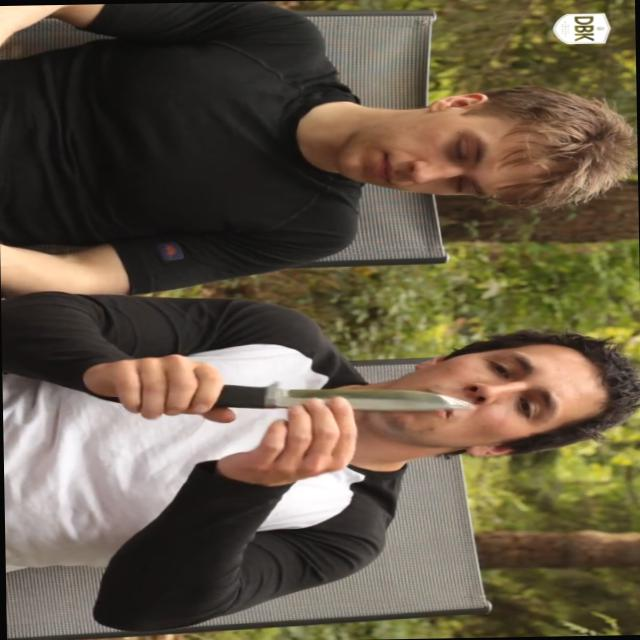knife: (188, 370, 486, 421)
